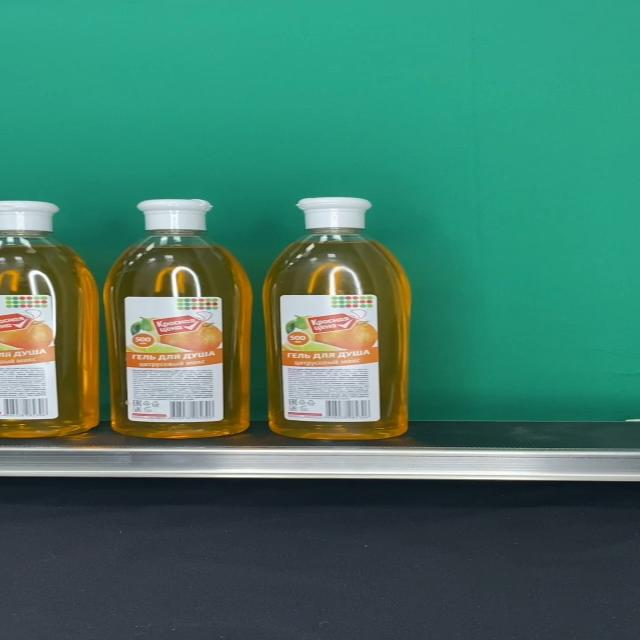Bottle: (262, 196, 411, 440), (104, 198, 252, 439)
Cap: (296, 197, 372, 230), (135, 198, 213, 230)
